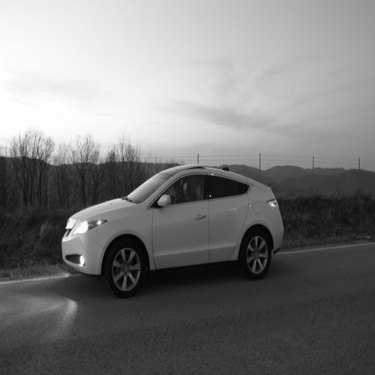car: (50, 156, 291, 304)
